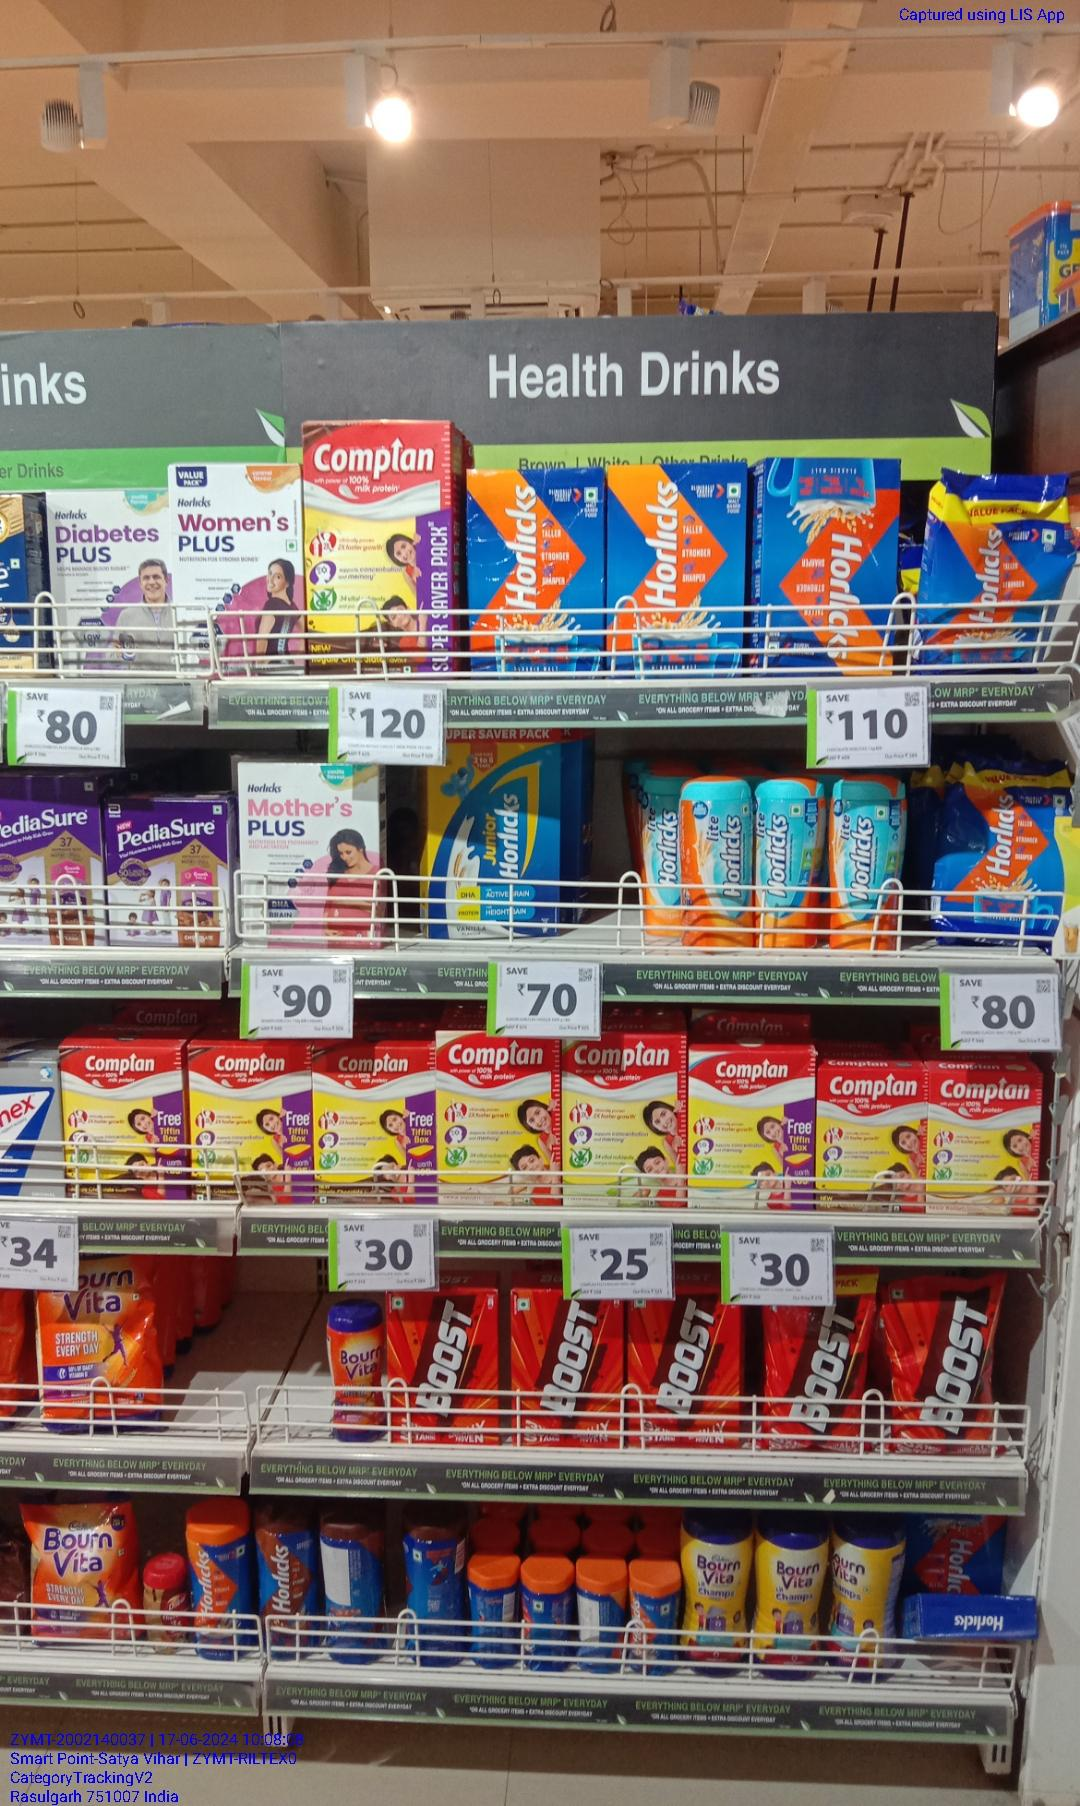BOURN_VITA_CHAMPS_500_G_JAR: (752, 1509, 829, 1679), (683, 1508, 748, 1675), (833, 1512, 888, 1679)
HORLICKS_LITE_REGULAR_MALT_500_GM_JAR: (832, 776, 906, 954), (678, 774, 748, 945), (756, 774, 824, 947), (636, 761, 674, 934)
PEDIASURE_CHOCOLATE_500_G_PACK: (109, 800, 230, 943), (0, 800, 104, 941)
